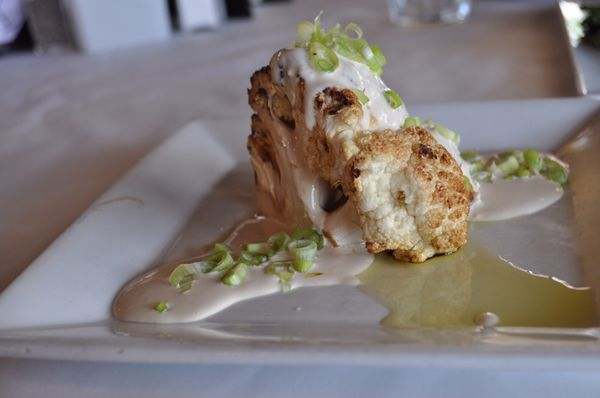curry: (2, 5, 592, 387)
